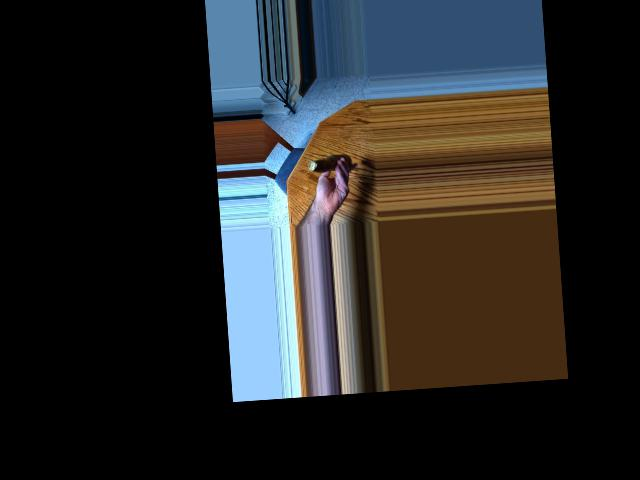sweet_potato: (309, 151, 347, 177)
